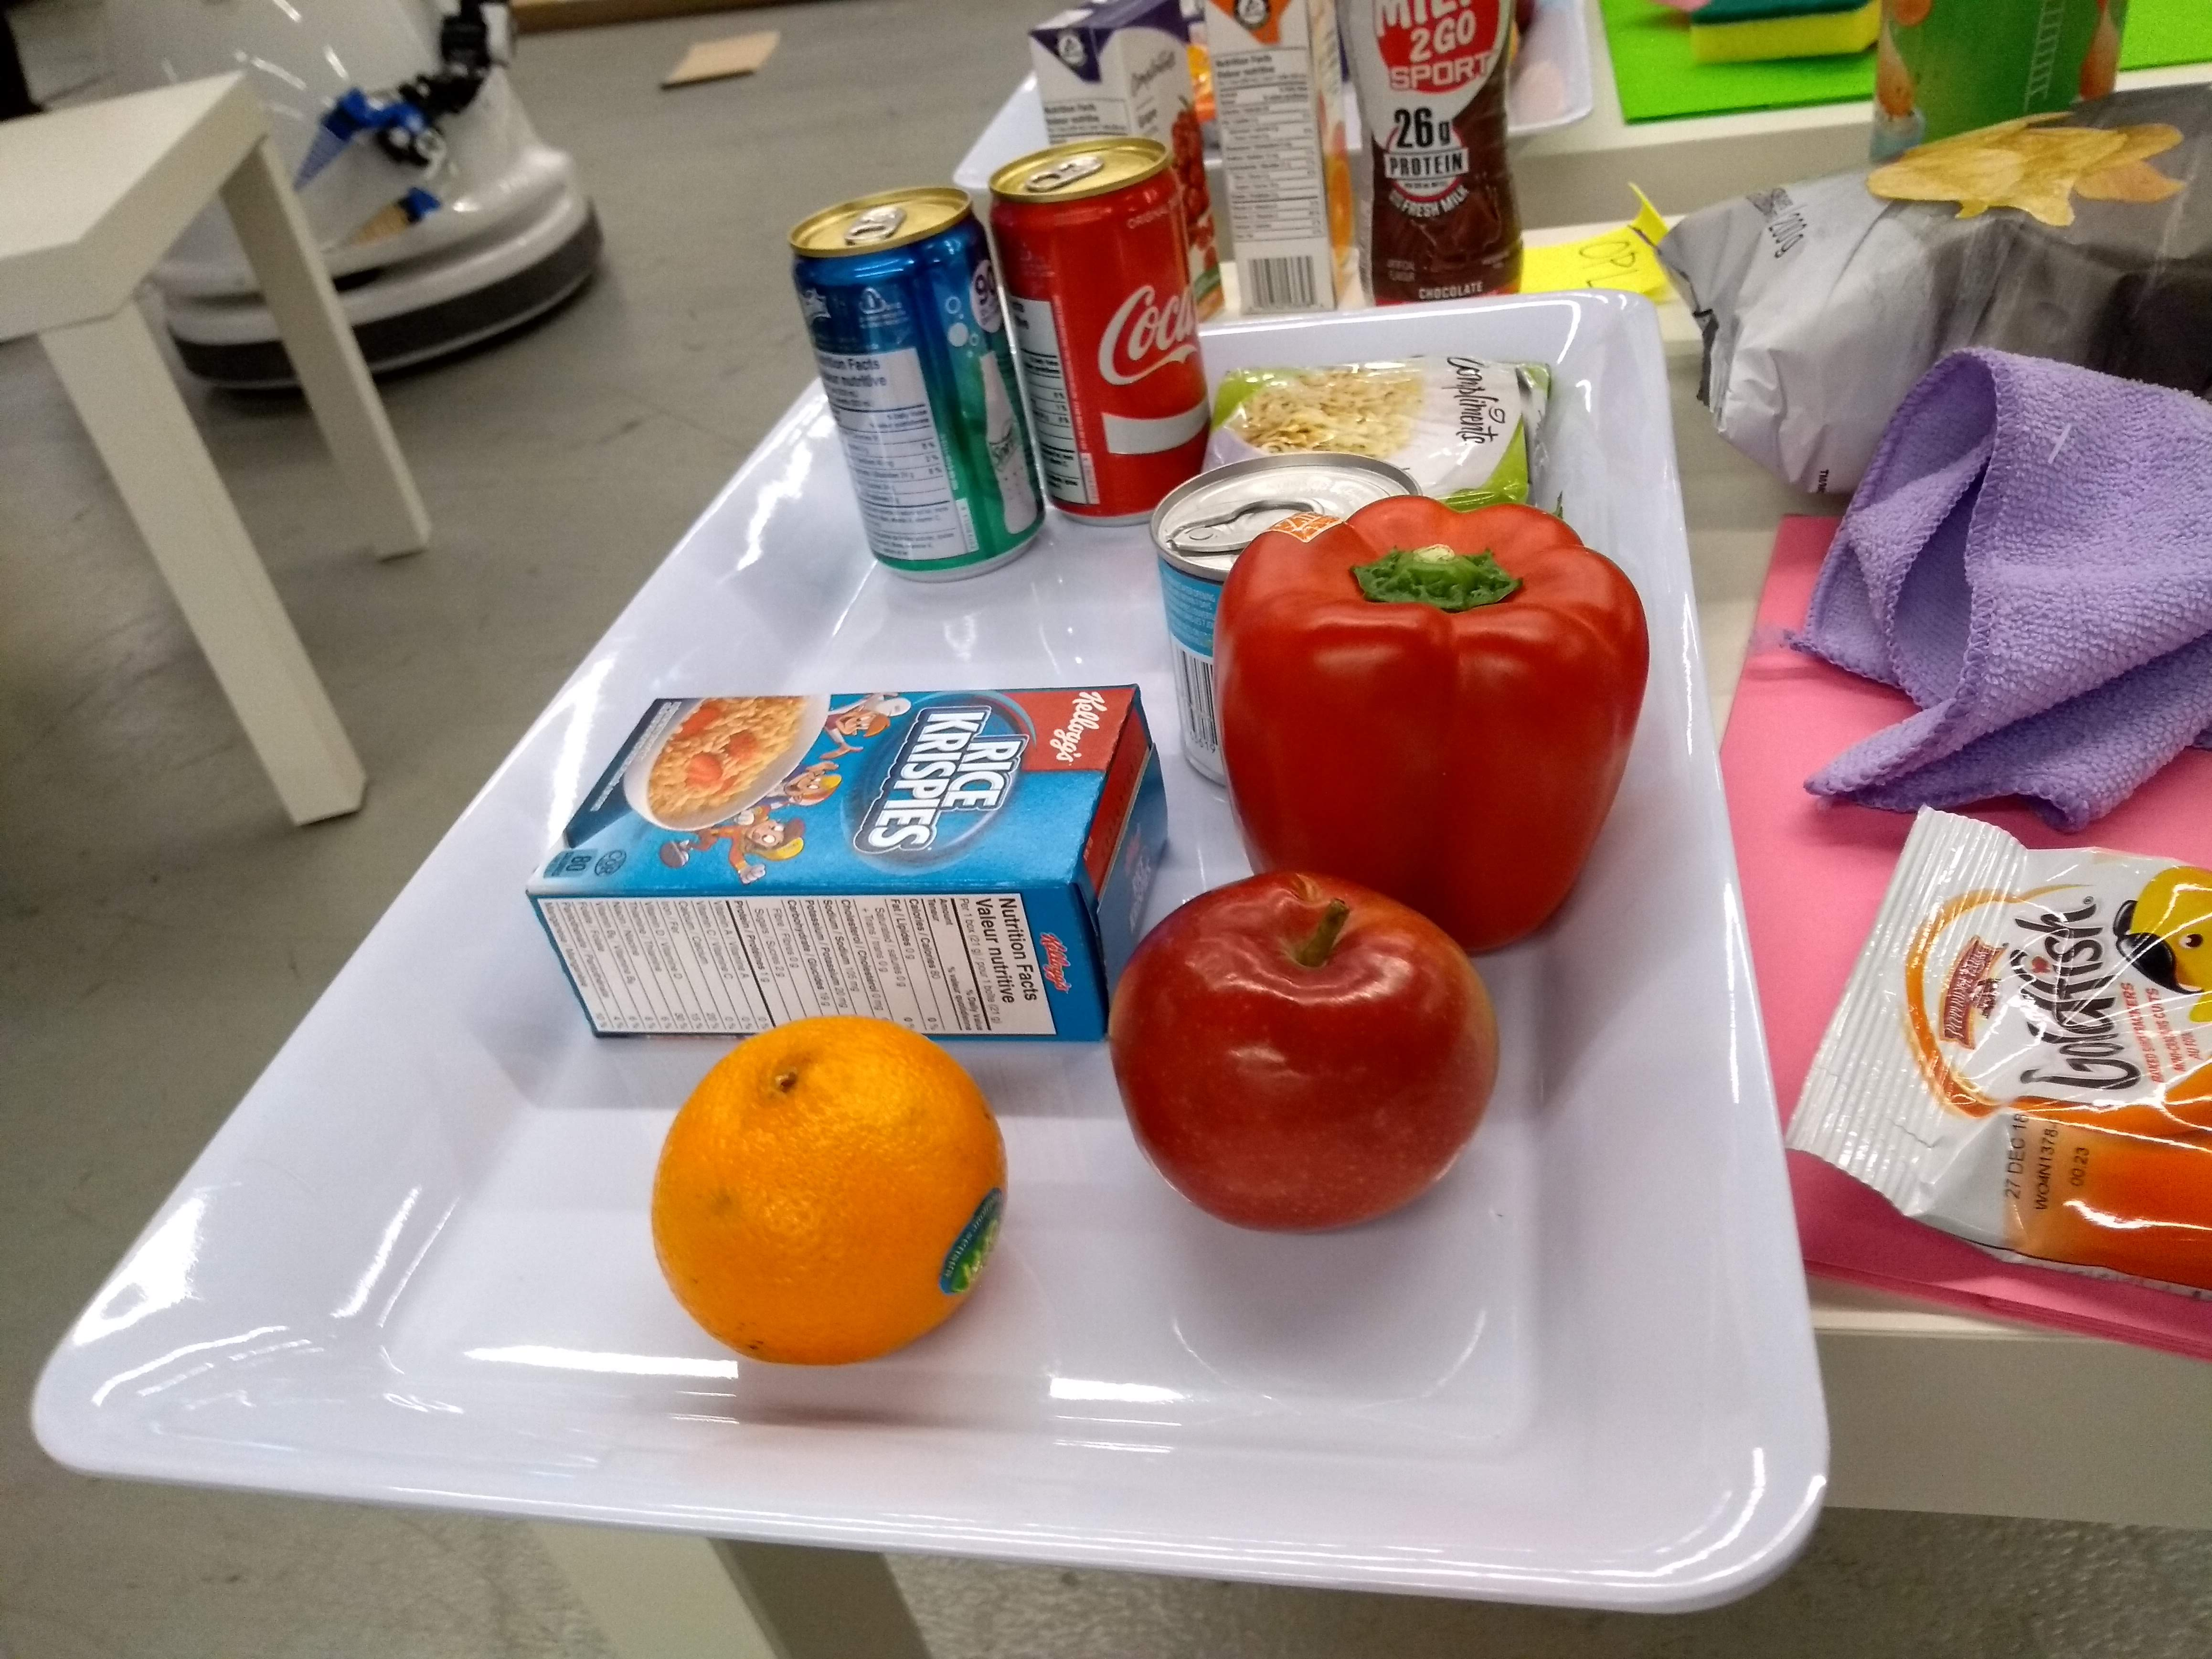apple: (1096, 868, 1514, 1241)
cereal: (523, 673, 1186, 1058)
coke: (981, 129, 1224, 538)
noodles: (1193, 345, 1550, 516)
orange: (641, 1007, 1017, 1373)
paprika: (1202, 491, 1658, 979)
sprite: (775, 176, 1059, 589)
